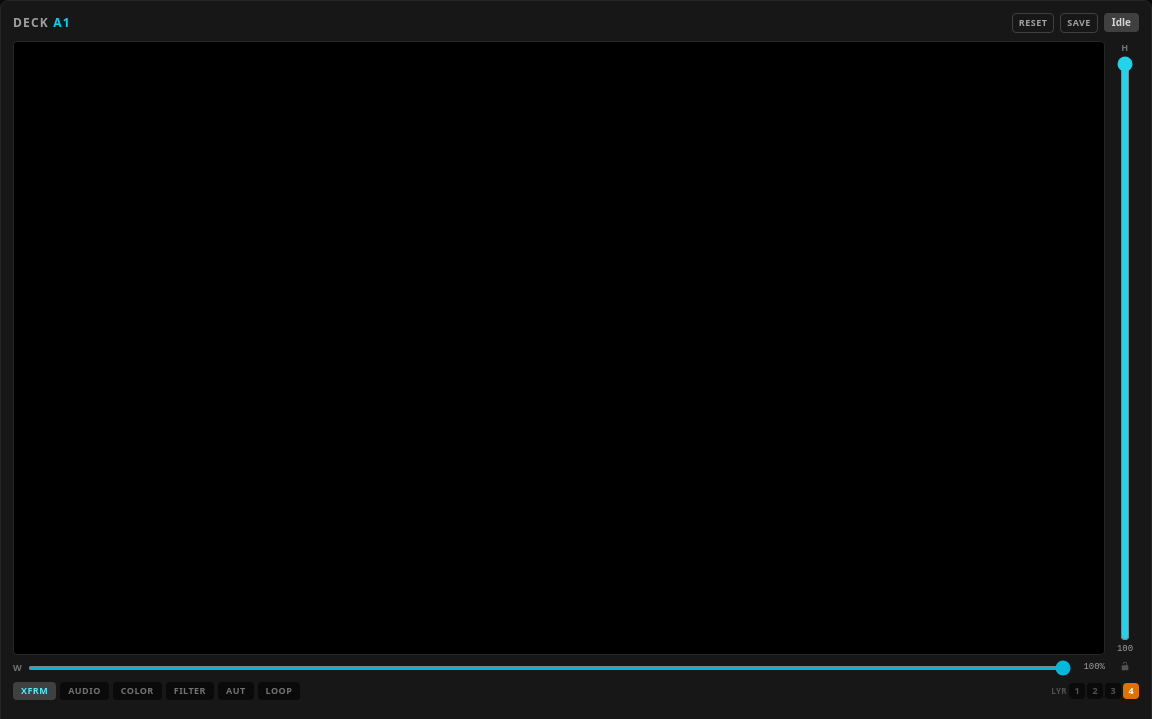
Scenario: DeckModule generation › SAVE shows a confirmation tick
Step 1. Click the button "SAVE" → (1079, 23), box [1060,13,1098,32]
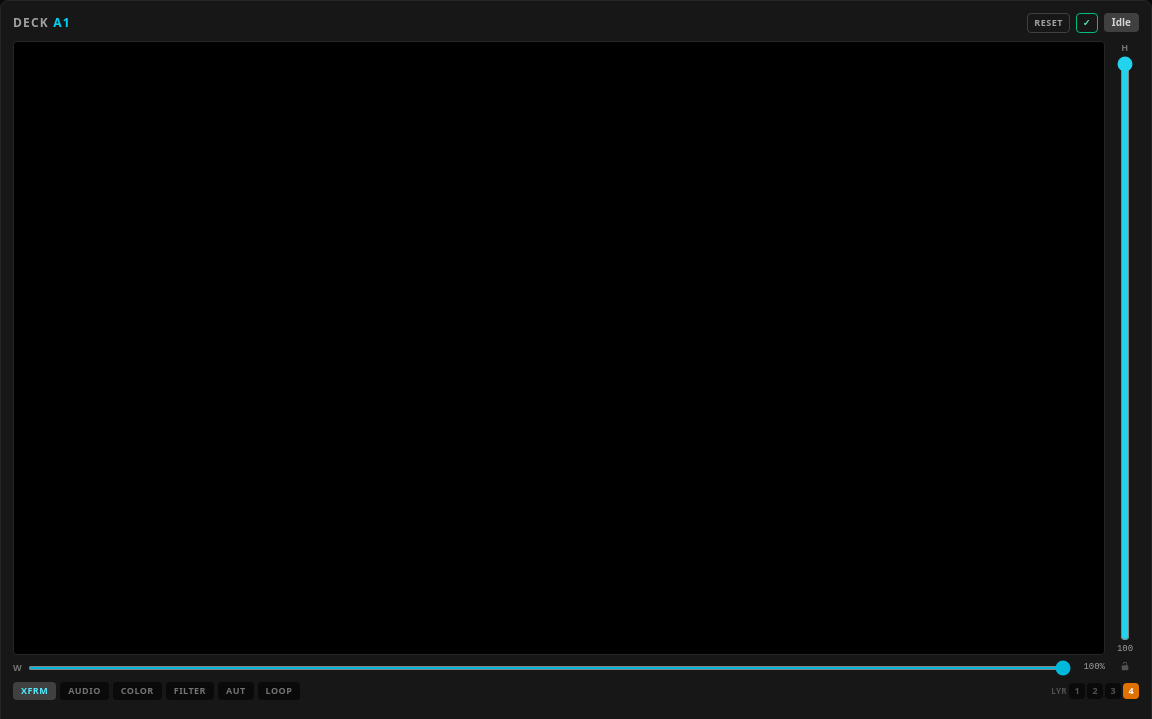
Result: the button "✓" is shown at [1076,13,1098,32]
